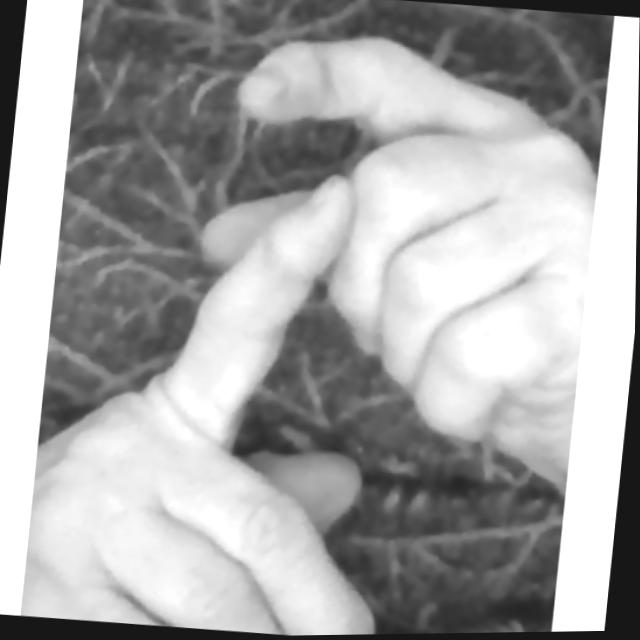C_: (18, 3, 611, 640)
